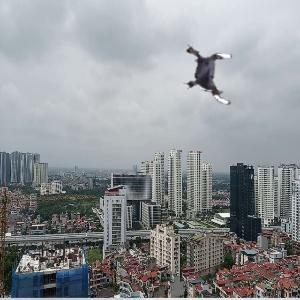drone: (177, 43, 242, 108)
